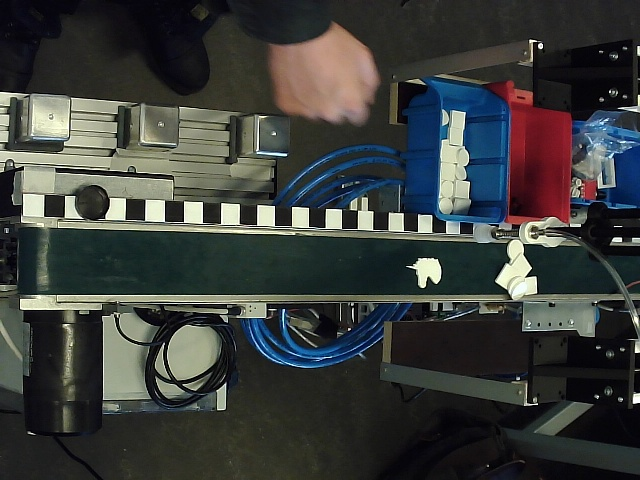unicorn: (405, 258, 443, 289)
